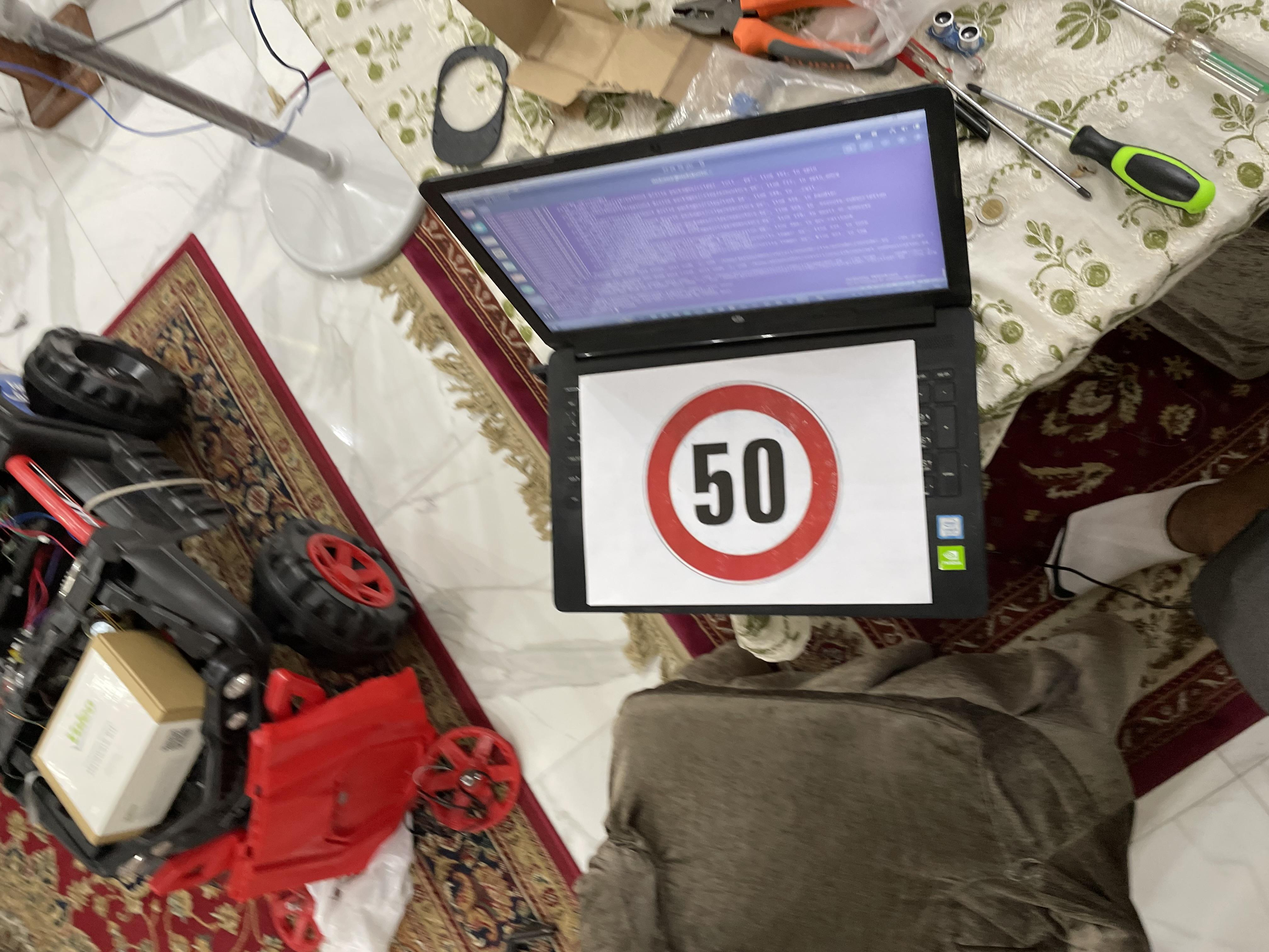50-Speed: (467, 466, 781, 643)
